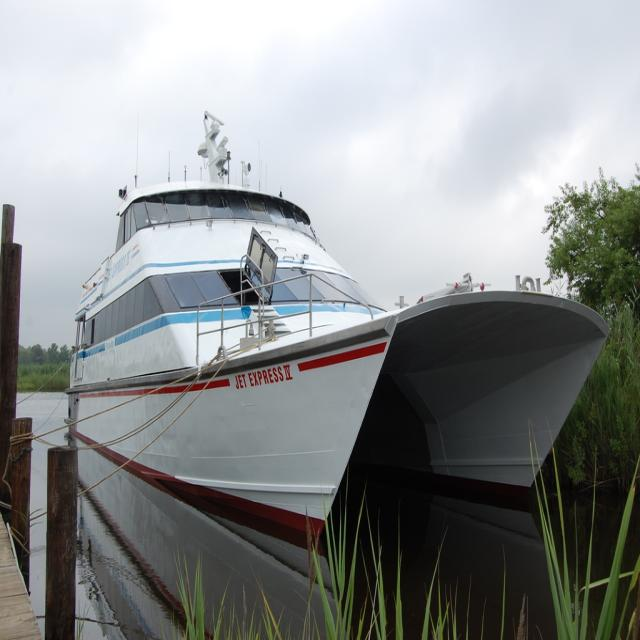Boat: (59, 98, 592, 609)
